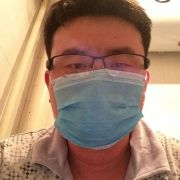face_mask: (49, 16, 145, 137)
